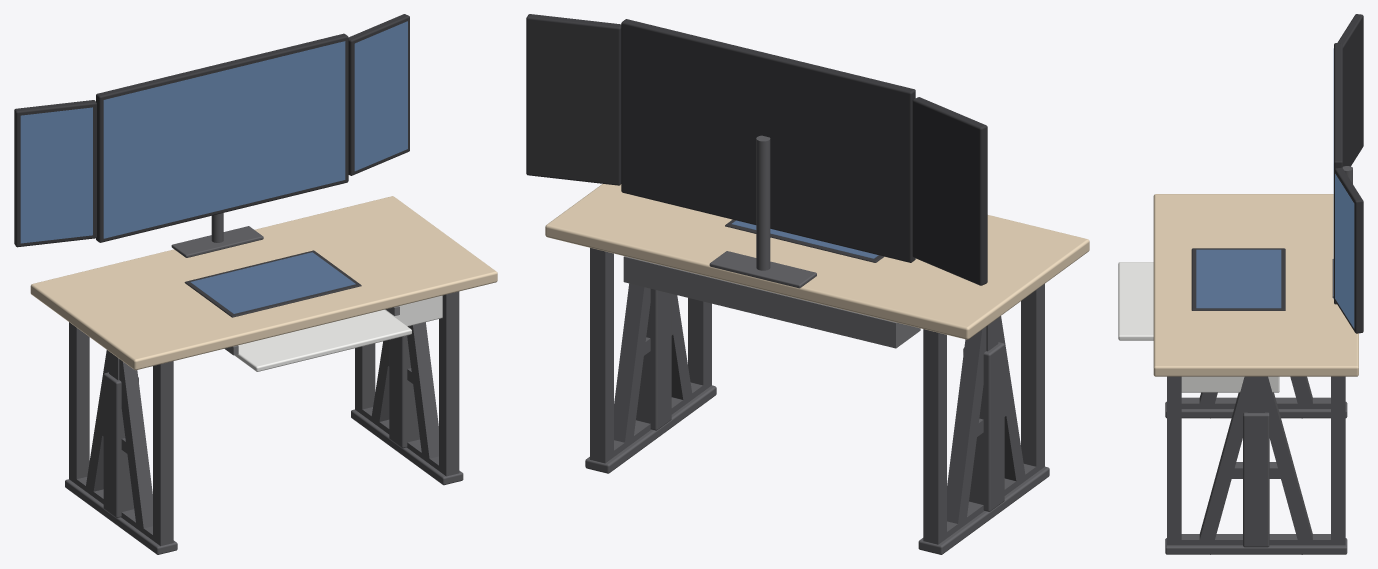
Rendered from smart-desk.glb.
3 renders of one model, left to right at view 1: azimuth 30°, elevation 25°; view 2: azimuth 150°, elevation 25°; view 3: azimuth 270°, elevation 25°, orthographic. The views are drawn at different scales.
Parts seen in each view (by area): view 1: Top, Monitor4K_Panel, SideMonitorLeft_Panel, SideMonitorRight_Panel, TouchScreen_Panel, KeyboardTray_Board, Monitor4K, Leg_A_Left_PostFront, Leg_A_Right_PostFront, Leg_B_Left_PostFront, Leg_C_Left_Outer, Leg_A_Left_PostBack (+14 smaller); view 2: Monitor4K, Top, SideMonitorRight_Display, SideMonitorLeft_Display, CableTray, Leg_A_Left_PostBack, Leg_A_Right_PostBack, Leg_B_Left_PostBack, Leg_C_Left_Outer, Leg_A_Left_PostFront, Leg_C_Right_Outer, Leg_B_Right_PostBack (+11 smaller); view 3: Top, TouchScreen_Panel, Leg_C_Right_Outer, SideMonitorLeft_Display, KeyboardTray_Board, SideMonitorRight_Panel, Leg_B_Right_PostFront, Leg_B_Right_PostBack, Leg_A_Right_PostFront, Leg_A_Right_PostBack, SideMonitorRight_Display, Leg_C_Right_Foot (+9 smaller).
Boxes of the visible parts, x1,y1,x2,y2 form: Top: (30, 196, 497, 370); Monitor4K_Panel: (103, 41, 345, 238); SideMonitorLeft_Panel: (20, 107, 92, 243); SideMonitorRight_Panel: (354, 21, 407, 171); TouchScreen_Panel: (190, 252, 355, 313); KeyboardTray_Board: (234, 309, 411, 371); Monitor4K: (96, 33, 348, 242); Leg_A_Left_PostFront: (153, 361, 173, 546); Leg_A_Right_PostFront: (439, 291, 459, 476); Leg_B_Left_PostFront: (119, 359, 152, 533); Leg_C_Left_Outer: (103, 372, 138, 517); Leg_A_Left_PostBack: (69, 322, 89, 484); Monitor4K: (621, 19, 915, 262); Top: (545, 184, 1089, 339); SideMonitorRight_Display: (526, 14, 621, 185); SideMonitorLeft_Display: (912, 97, 987, 285); CableTray: (623, 256, 920, 348); Leg_A_Left_PostBack: (923, 329, 946, 544); Leg_A_Right_PostBack: (590, 248, 613, 463); Leg_B_Left_PostBack: (947, 327, 986, 530); Leg_C_Left_Outer: (963, 342, 1004, 511); Leg_A_Left_PostFront: (1021, 284, 1044, 472); Leg_C_Right_Outer: (636, 289, 671, 430); Leg_B_Right_PostBack: (614, 283, 650, 449); Top: (1153, 194, 1358, 376); TouchScreen_Panel: (1196, 249, 1281, 308); Leg_C_Right_Outer: (1243, 412, 1269, 547); SideMonitorLeft_Display: (1337, 14, 1363, 166); KeyboardTray_Board: (1118, 262, 1153, 340); SideMonitorRight_Panel: (1335, 174, 1354, 328); Leg_B_Right_PostFront: (1199, 376, 1247, 554); Leg_B_Right_PostBack: (1265, 376, 1312, 554); Leg_A_Right_PostFront: (1167, 376, 1181, 539); Leg_A_Right_PostBack: (1331, 376, 1345, 539); SideMonitorRight_Display: (1334, 167, 1363, 333); Leg_C_Right_Foot: (1165, 538, 1347, 554).
Size of the model in its own units: 1.52 by 1.44 by 0.8356.
